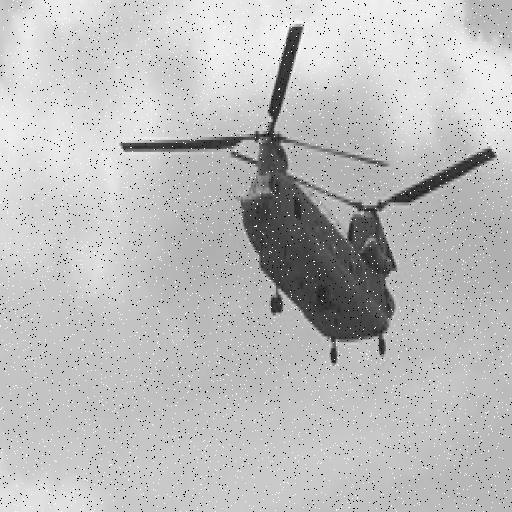helicopter: (122, 28, 498, 367)
